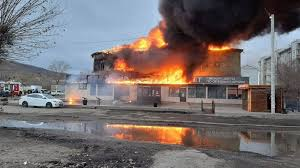fire: (103, 29, 244, 83)
